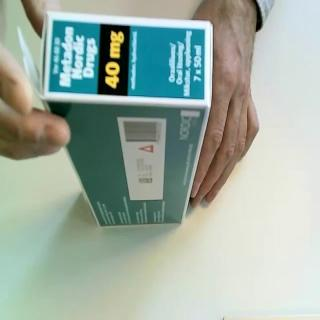metadon_hydrochlorid40mg: (16, 9, 216, 233)
